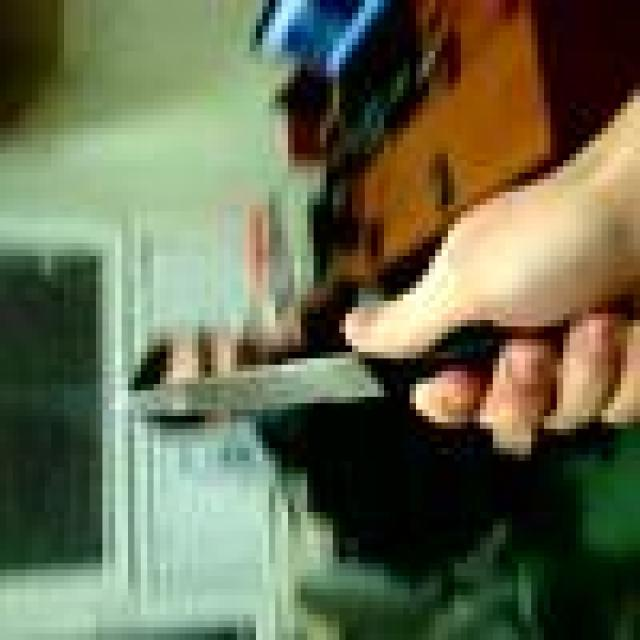faca: (38, 218, 640, 480)
